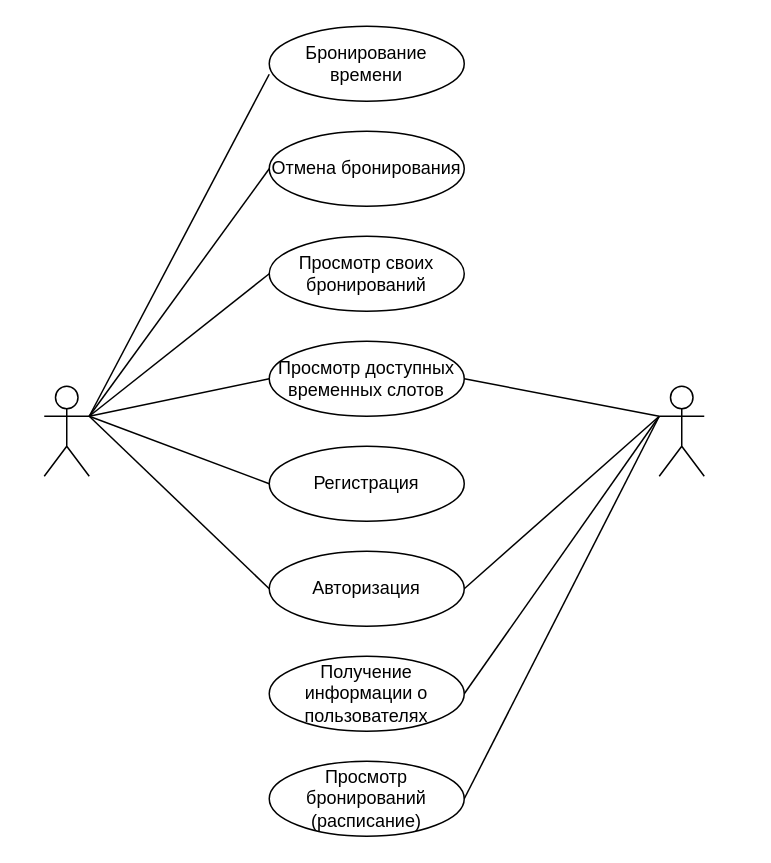
Image size: 771x863. Some labels were removed from this diagram. The shapes that lost their labels are listed below. From the top down, each one's centre as x and y in pixels, then its label:
At (x=66, y=430): "Студенты".
At (x=681, y=430): "Ответственный за прачечную".
